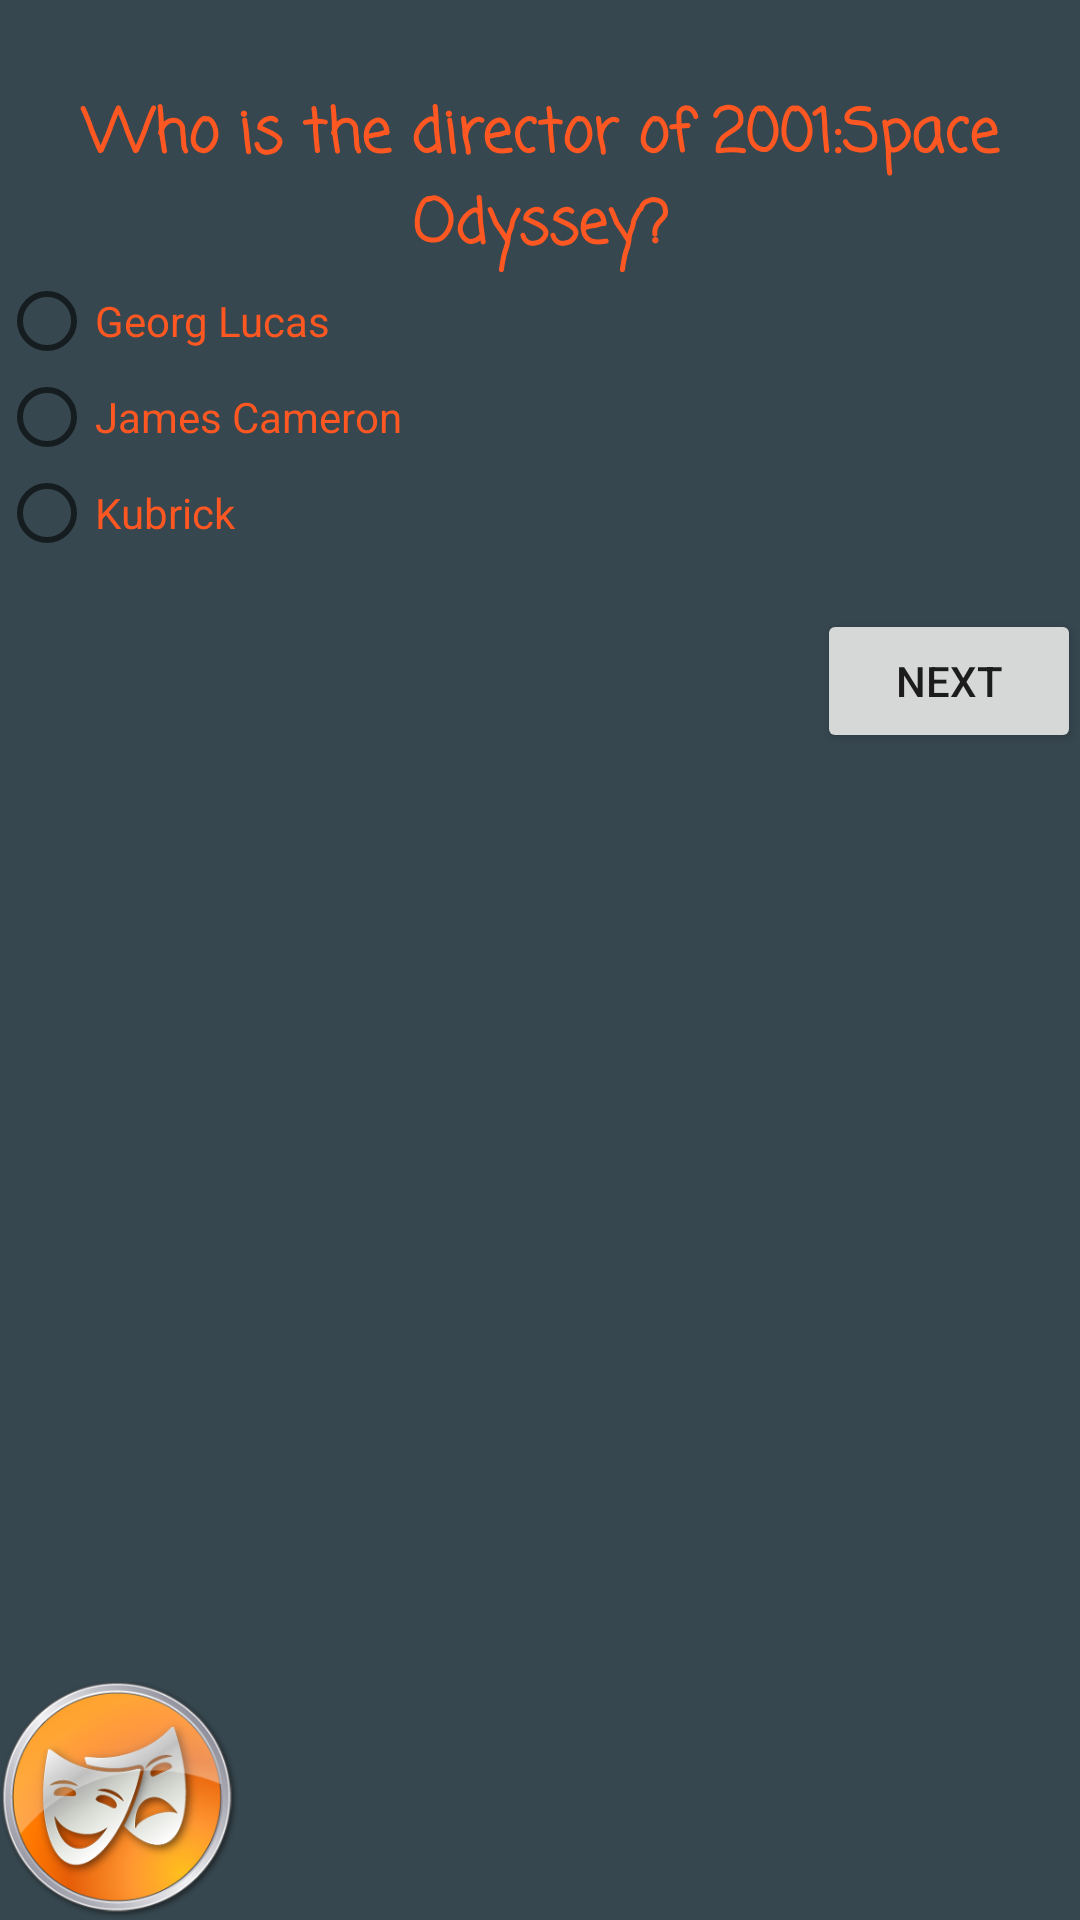

Icons on this 1080 x 1920 Android screen, each with the point to tap as (x=x, y=y):
theater: (x=117, y=1798)
